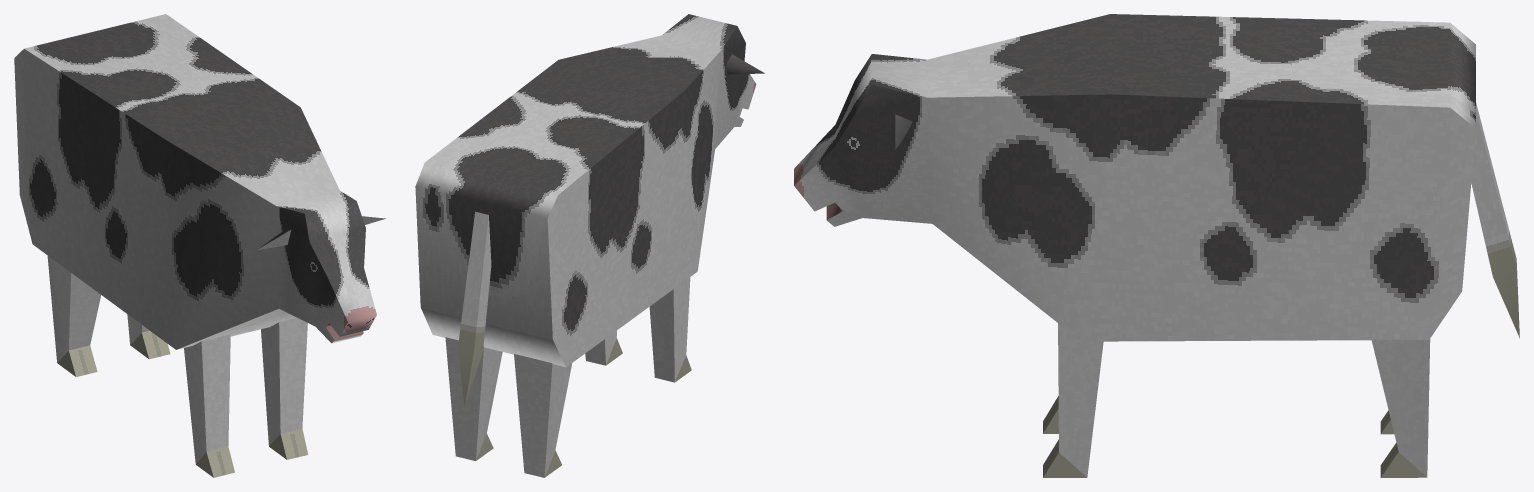
The model's file is 01e6_Calf.glb.
3 renders of one model, left to right at view 1: azimuth 30°, elevation 25°; view 2: azimuth 150°, elevation 25°; view 3: azimuth 270°, elevation 25°, orthographic. The views are drawn at different scales.
Visible parts, largest first — view 1: part_0; view 2: part_0; view 3: part_0.
Boxes of the visible parts, x1,y1,x2,y2 form: part_0: (14, 14, 385, 477); part_0: (415, 14, 764, 477); part_0: (794, 14, 1519, 477).
Bounding box in the file's own units: 0.2651 × 0.5751 × 0.9565.
1 material, 1 textured.
